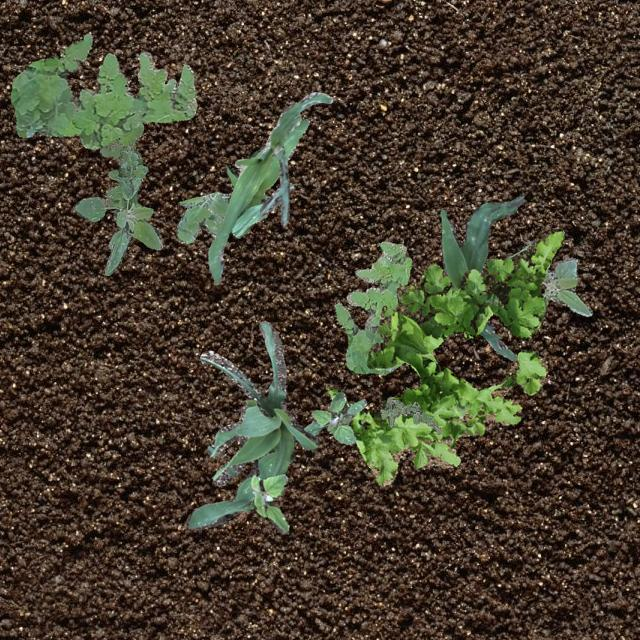crop: (185, 320, 318, 528), (208, 90, 332, 284), (440, 194, 538, 360), (224, 118, 308, 238)
weed: (328, 226, 564, 484), (10, 33, 196, 148), (334, 240, 410, 374), (74, 176, 162, 274), (98, 121, 146, 196), (302, 389, 366, 444), (540, 256, 592, 316), (176, 190, 230, 242), (378, 396, 441, 434), (248, 474, 288, 532)
